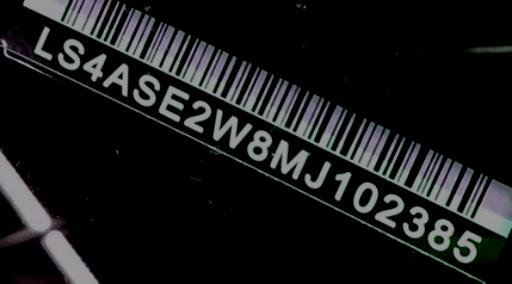letter: (211, 106, 253, 158), (267, 138, 309, 178), (54, 25, 84, 80), (26, 15, 56, 65), (421, 214, 457, 252), (240, 126, 274, 166), (156, 82, 190, 122), (301, 151, 335, 190), (347, 176, 381, 215), (372, 189, 406, 228), (398, 200, 432, 239), (450, 225, 484, 264), (180, 96, 214, 134), (328, 164, 356, 205), (100, 62, 130, 95), (130, 74, 160, 107), (80, 52, 108, 83)
